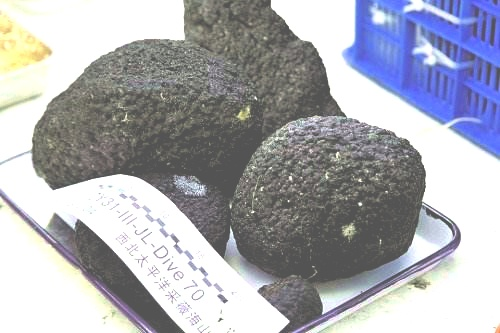halobolite: (231, 113, 430, 273), (39, 37, 254, 185), (177, 1, 349, 119), (84, 170, 231, 297), (249, 271, 328, 330)
